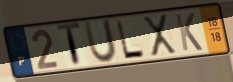2: (31, 28, 60, 71)
K: (173, 11, 204, 53)
L: (114, 19, 148, 61)
T: (55, 21, 82, 69)
U: (82, 18, 119, 66)
X: (140, 13, 179, 59)
